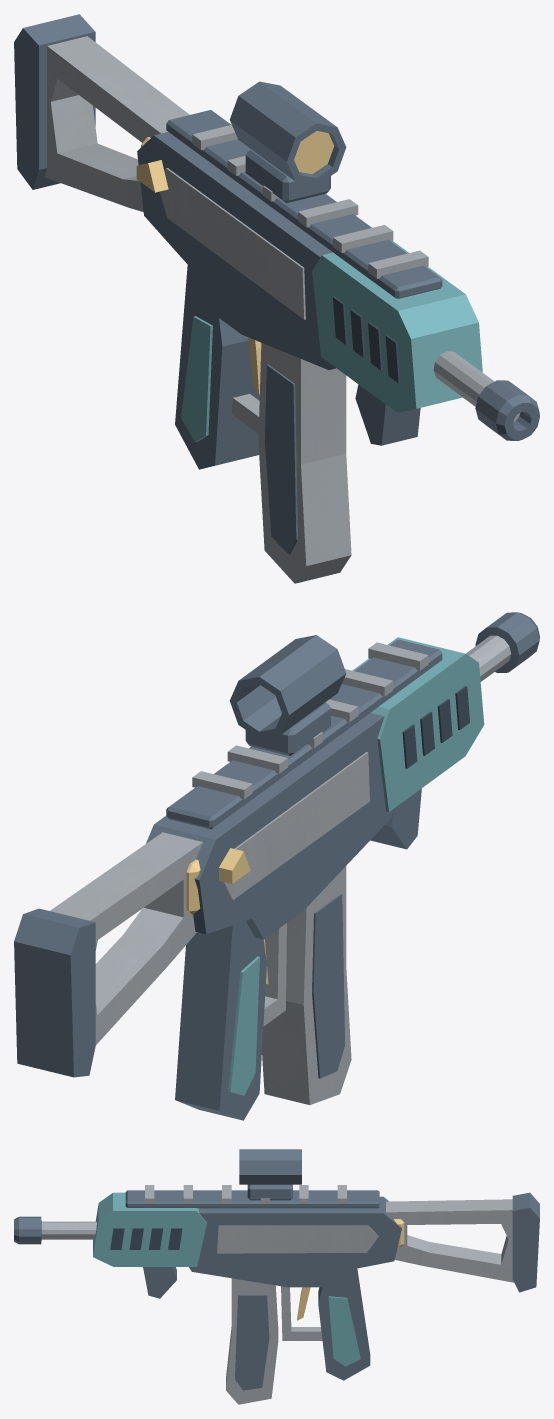
File: rifle.glb
3 renders of one model, top to bottom at view 1: azimuth 30°, elevation 25°; view 2: azimuth 150°, elevation 25°; view 3: azimuth 270°, elevation 25°, orthographic. The views are drawn at different scales.
Visible parts, largest first — view 1: rifle; view 2: rifle; view 3: rifle.
Boxes of the visible parts, x1,y1,x2,y2 form: rifle: [14, 14, 539, 583]; rifle: [14, 612, 539, 1120]; rifle: [14, 1149, 539, 1404].
Bounding box in the file's own units: 0.118 × 0.613 × 1.17.
Materials: 5 (1 with a texture image).
